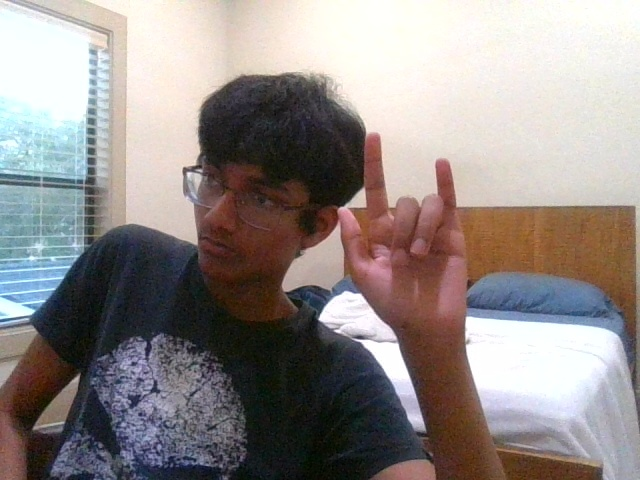ly: (338, 133, 467, 331)
